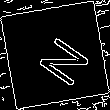N_NW: (22, 24, 88, 86)
